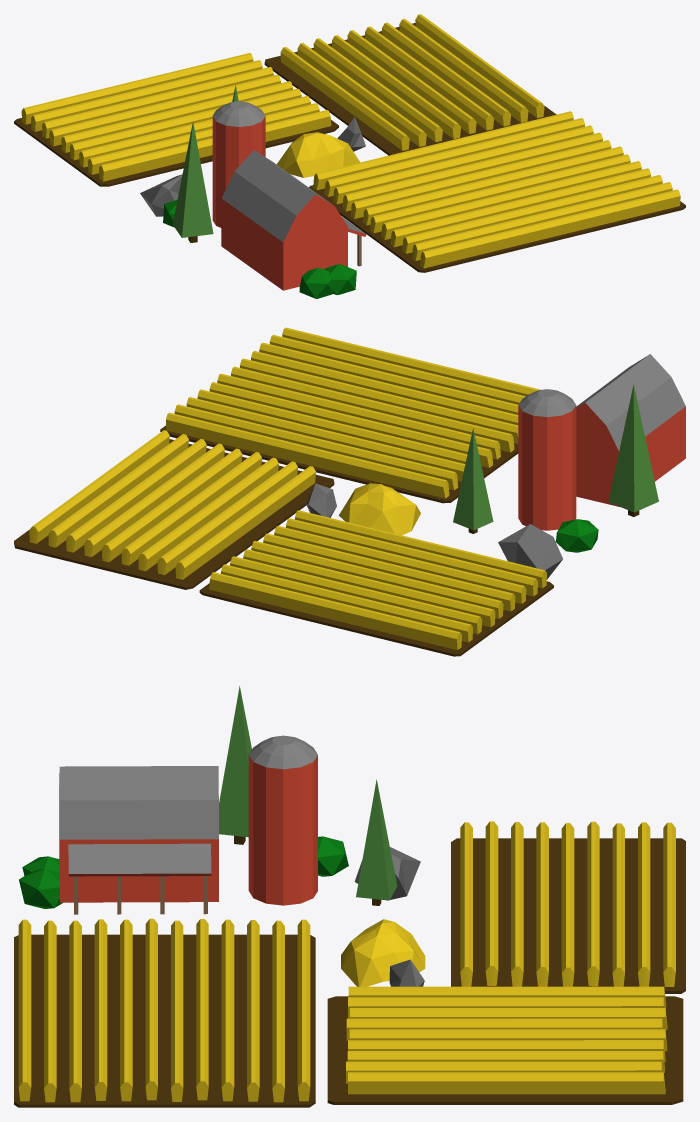
Rendered from farmland.glb.
3 views of the same model, one above another, from view 1: azimuth 30°, elevation 25°; view 2: azimuth 150°, elevation 25°; view 3: azimuth 270°, elevation 25° (orthographic). The views are drawn at different scales.
Visible parts, largest first — view 1: Cube.005, Cube.006, Cube.004, main house.001, Silo, Cube.002, Cone.008, Icosphere.012, Cube.001, Cube.003, Icosphere, Icosphere.005 (+2 smaller); view 2: Cube.005, Cube.006, Cube.004, main house.001, Silo, Cube.002, Cone.008, Cube.003, Icosphere.012, Cone.014, Icosphere, Cube.001 (+2 smaller); view 3: Cube.004, Cube.001, Cube.005, main house.001, Cube.003, Cube.006, Silo, Cube.002, Icosphere.012, Cone.008, Cone.014, Icosphere.013 (+3 smaller).
Part boxes in pixels (left/top/right/bottom): Cube.005: left=313, top=111, right=680, bottom=268; Cube.006: left=21, top=53, right=331, bottom=181; Cube.004: left=280, top=14, right=544, bottom=150; main house.001: left=221, top=150, right=366, bottom=290; Silo: left=212, top=101, right=265, bottom=227; Cube.002: left=264, top=23, right=556, bottom=155; Cone.008: left=172, top=121, right=213, bottom=242; Icosphere.012: left=277, top=132, right=360, bottom=177; Cube.001: left=309, top=185, right=685, bottom=272; Cube.003: left=14, top=118, right=338, bottom=186; Icosphere: left=140, top=174, right=182, bottom=216; Icosphere.005: left=299, top=268, right=333, bottom=298; Cube.005: left=166, top=327, right=540, bottom=498; Cube.006: left=209, top=510, right=546, bottom=649; Cube.004: left=29, top=430, right=315, bottom=579; main house.001: left=576, top=354, right=685, bottom=506; Silo: left=518, top=389, right=576, bottom=530; Cube.002: left=14, top=439, right=334, bottom=589; Cone.008: left=608, top=384, right=658, bottom=516; Cube.003: left=199, top=581, right=553, bottom=656; Icosphere.012: left=338, top=483, right=420, bottom=535; Cone.014: left=453, top=428, right=493, bottom=533; Icosphere: left=498, top=524, right=562, bottom=579; Cube.001: left=160, top=425, right=518, bottom=503; Cube.004: left=346, top=986, right=667, bottom=1094; Cube.001: left=14, top=934, right=315, bottom=1107; Cube.005: left=18, top=918, right=310, bottom=1102; main house.001: left=59, top=766, right=218, bottom=914; Cube.003: left=451, top=838, right=685, bottom=993; Cube.006: left=460, top=821, right=675, bottom=986; Silo: left=248, top=735, right=317, bottom=905; Cube.002: left=327, top=996, right=683, bottom=1104; Icosphere.012: left=341, top=919, right=425, bottom=986; Cone.008: left=219, top=686, right=251, bottom=844; Cone.014: left=356, top=779, right=397, bottom=905; Icosphere.013: left=19, top=868, right=62, bottom=908.
Bounding box in the file's own units: 0.9313 × 0.3031 × 0.9756.
